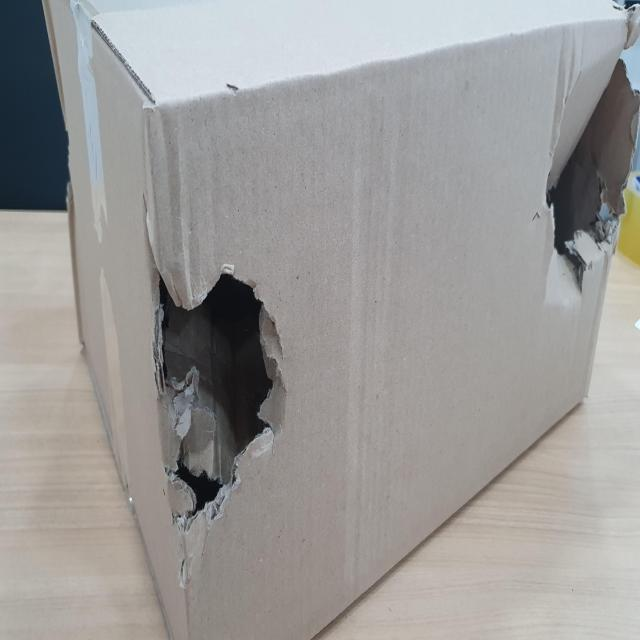damaged: (137, 252, 297, 590), (538, 49, 640, 302)
